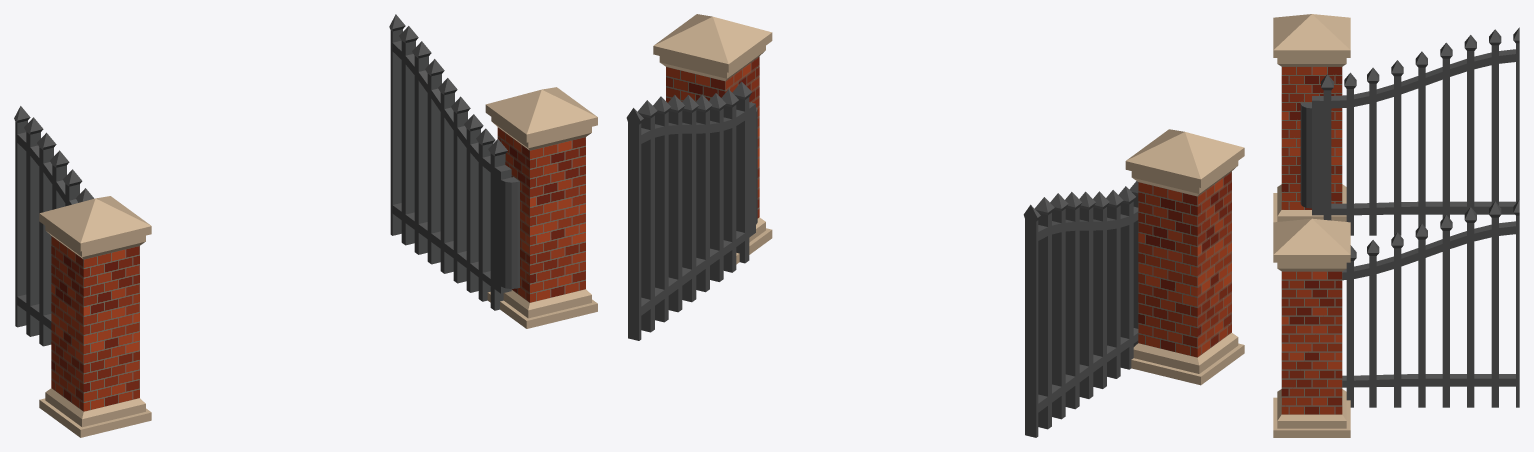
3 views of the same model, side by side, from view 1: azimuth 30°, elevation 25°; view 2: azimuth 150°, elevation 25°; view 3: azimuth 270°, elevation 25° (orthographic). The views are drawn at different scales.
Parts seen in each view (by area): view 1: WroughtIronGates; view 2: WroughtIronGates; view 3: WroughtIronGates.
Boxes of the visible parts, x1,y1,x2,y2 form: WroughtIronGates: (14, 14, 597, 437); WroughtIronGates: (626, 14, 1244, 437); WroughtIronGates: (1273, 14, 1519, 437).
Size of what is drawn, in the model's own units: 4.87 by 1.97 by 2.14.
Materials: 1 (1 with a texture image).
